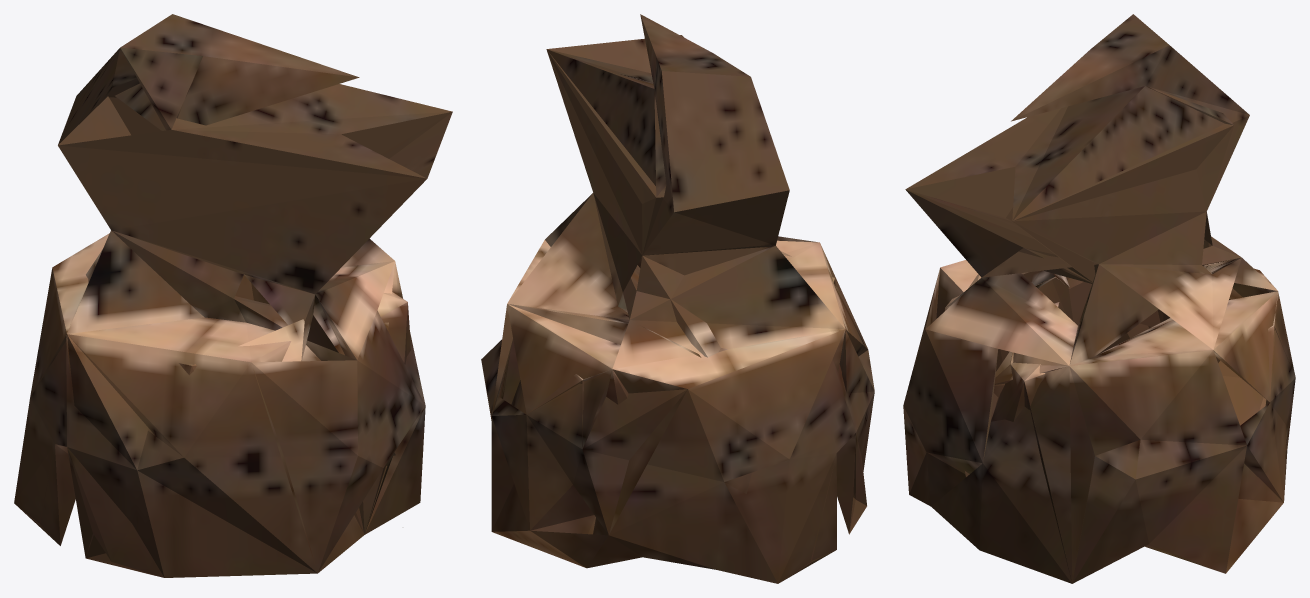
The model's file is anvil.glb.
3 views of the same model, side by side, from view 1: azimuth 30°, elevation 25°; view 2: azimuth 150°, elevation 25°; view 3: azimuth 270°, elevation 25° (orthographic). The views are drawn at different scales.
Visible parts, largest first — view 1: anvil; view 2: anvil; view 3: anvil.
Boxes of the visible parts, x1,y1,x2,y2 form: anvil: (14,14,452,577); anvil: (481,14,874,583); anvil: (903,14,1295,583).
Size of the model in its own units: 0.6631 by 0.8662 by 0.6668.
Materials: 1 (1 with a texture image).
